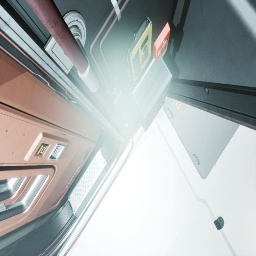EmergencyPhone ,: (126, 15, 152, 84)
FireAlarm ,: (152, 22, 170, 65)
